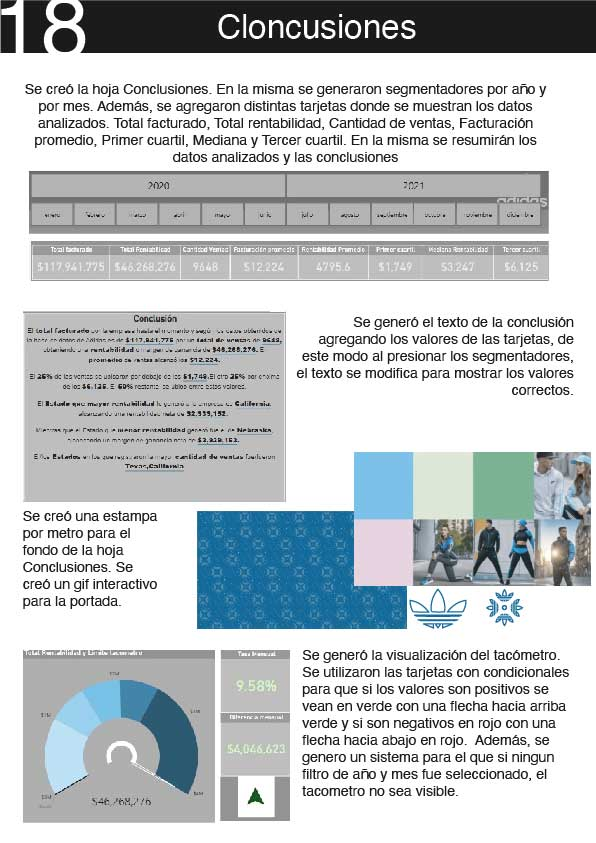

The dashboard page shown, as its layout file describes it:
{"tool":"powerbi","page":{"name":"Conclusiones","canvas":[1280,720],"ordinal":5},"visuals":[{"type":"shape","box":[0,141.1,1280.2,578.9],"z":0},{"type":"card","title":"Total facturado","fields":{"Values":["Z_Medidas.Total de ventas"]},"box":[1.3,158.9,193,85],"z":1000},{"type":"card","title":"Total Rentabilidad","fields":{"Values":["Z_Medidas.Total Rentabilidad"]},"box":[194.3,158.9,174.2,85],"z":2000},{"type":"card","title":"Cantidad Ventas","fields":{"Values":["Z_Medidas.Conteo de ventas"]},"box":[368.5,158.9,123.8,85],"z":3000},{"type":"card","title":"Facturación promedio","fields":{"Values":["Z_Medidas.Facturacion Promedio"]},"box":[492.4,158.9,167,85],"z":4000},{"type":"card","title":"Mediana Rentabilidad","fields":{"Values":["Z_Medidas.Mediana Rentabilidad"]},"box":[967.6,158.9,177.1,85],"z":5000},{"type":"card","title":"Primer cuartil","fields":{"Values":["Z_Medidas.Primer cuartil"]},"box":[833.7,158.9,133.9,85],"z":6000},{"type":"card","title":"Tercer cuartil","fields":{"Values":["Z_Medidas.Tercer cuartil"]},"box":[1144.7,158.9,136.8,85],"z":7000},{"type":"slicer","title":"Año","fields":{"Values":["Calendario.Año"]},"box":[0,0,1280,70.6],"z":8000},{"type":"slicer","fields":{"Values":["Calendario.Mes Corto"]},"box":[0,70.1,1280.6,70.1],"z":9000},{"type":"textbox","title":"Conclusión","box":[1.4,249.1,637.9,420.5],"z":10000},{"type":"image","box":[977.8,669.6,56.2,50.4],"z":11000},{"type":"card","title":"Rentabilidad Promedio","fields":{"Values":["Z_Medidas.Rentabilidad Promedio"]},"box":[659.4,158.9,174.2,85],"z":12000},{"type":"eaTachometer6616D82ED23A4C048E1D3CD4604742ED","title":"Rentabilidad","fields":{"Y":["Z_Medidas.Total Rentabilidad"],"EndValue":["Z_Medidas.Limite tacometro"]},"box":[640,248.3,460,420],"z":13000},{"type":"card","title":"Tasa Mensual","fields":{"Values":["Z_Medidas.MoM% de Total Rentabilidad"]},"box":[1100.2,272.2,180,136.8],"z":14000},{"type":"card","title":"Diferencia mensual","fields":{"Values":["Z_Medidas.Diferencia Mensual"]},"box":[1098.7,409,180,136.8],"z":15000},{"type":"cardVisual","fields":{"Data":["Z_Medidas.Flechas"]},"box":[1144.8,567.4,90.7,102.2],"z":16000},{"type":"pageNavigator","box":[0,669.6,966.2,50.4],"z":17000},{"type":"shape","title":"Rentabilidad mensual por anio","box":[640,271.7,638.3,396.7],"z":18000}]}

Visuals, with their boxes on the page's 1280x720 design canvas (x1, y1, x2, y2). These are canvas units, not pixel positions in the 596x843 screenshot, which may show the page scaled, cropped or inside an application window:
shape: select_region(0, 141, 1280, 720)
"Total facturado" card: select_region(1, 159, 194, 244)
"Total Rentabilidad" card: select_region(194, 159, 368, 244)
"Cantidad Ventas" card: select_region(368, 159, 492, 244)
"Facturación promedio" card: select_region(492, 159, 659, 244)
"Mediana Rentabilidad" card: select_region(968, 159, 1145, 244)
"Primer cuartil" card: select_region(834, 159, 968, 244)
"Tercer cuartil" card: select_region(1145, 159, 1282, 244)
"Año" slicer: select_region(0, 0, 1280, 71)
slicer - Calendario.Mes Corto: select_region(0, 70, 1281, 140)
"Conclusión" textbox: select_region(1, 249, 639, 670)
image: select_region(978, 670, 1034, 720)
"Rentabilidad Promedio" card: select_region(659, 159, 834, 244)
"Rentabilidad" eaTachometer6616D82ED23A4C048E1D3CD4604742ED: select_region(640, 248, 1100, 668)
"Tasa Mensual" card: select_region(1100, 272, 1280, 409)
"Diferencia mensual" card: select_region(1099, 409, 1279, 546)
cardVisual - Z_Medidas.Flechas: select_region(1145, 567, 1236, 670)
pageNavigator: select_region(0, 670, 966, 720)
"Rentabilidad mensual por anio" shape: select_region(640, 272, 1278, 668)
